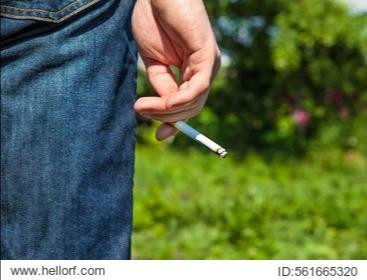Cigarette: (169, 120, 228, 161)
